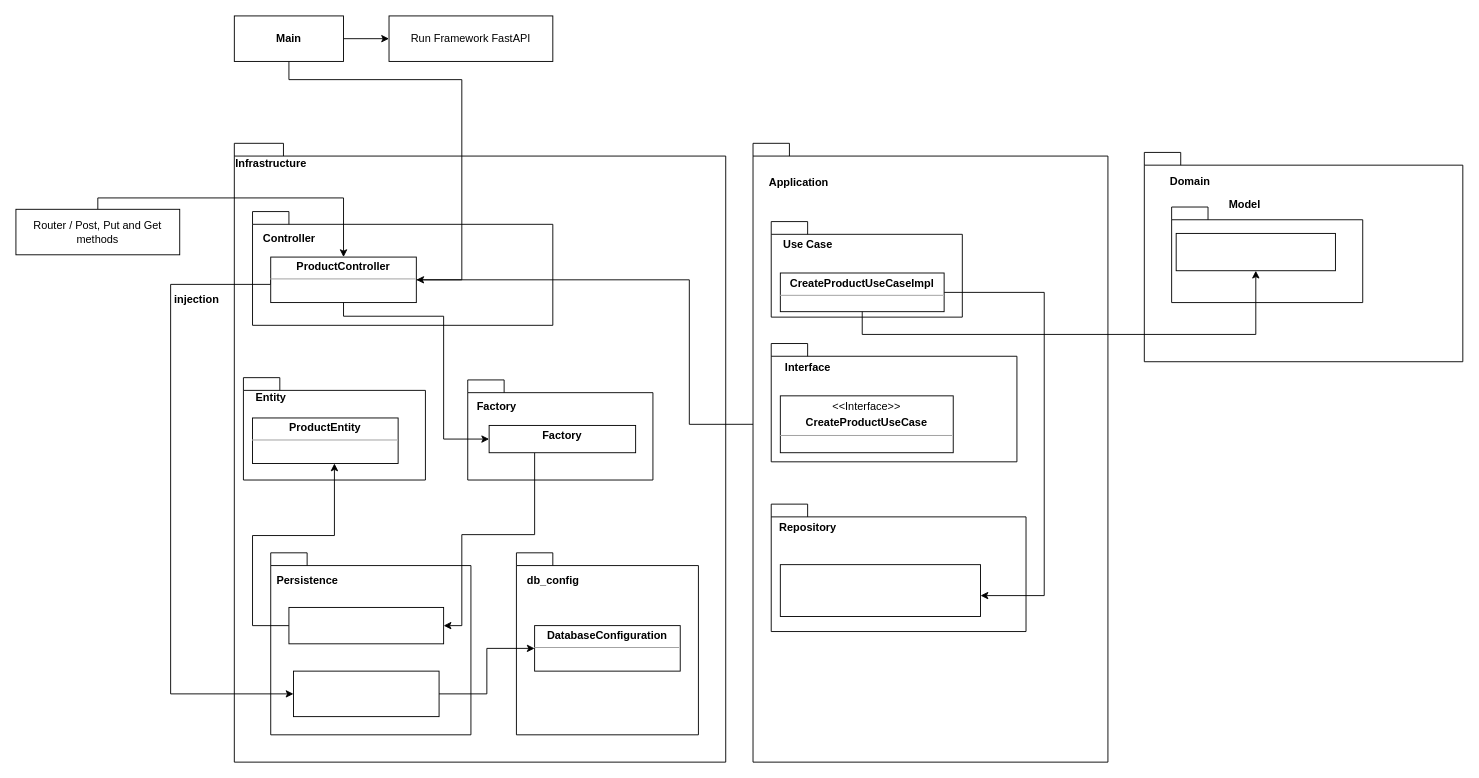
Image size: 1479x778. Some labels were removed from this diagram. The shapes that lost their labels are listed below. From the top down, each one's centre as x and y in pixels, then its label:
At point (1255, 252): "Product".
At point (880, 590): "<<Interface>> ProductRepository".
At point (366, 625): "ProductRepositoryImp".
At point (366, 693): "UnitOfWork".
